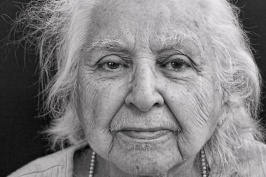Forehead: (82, 0, 219, 50)
